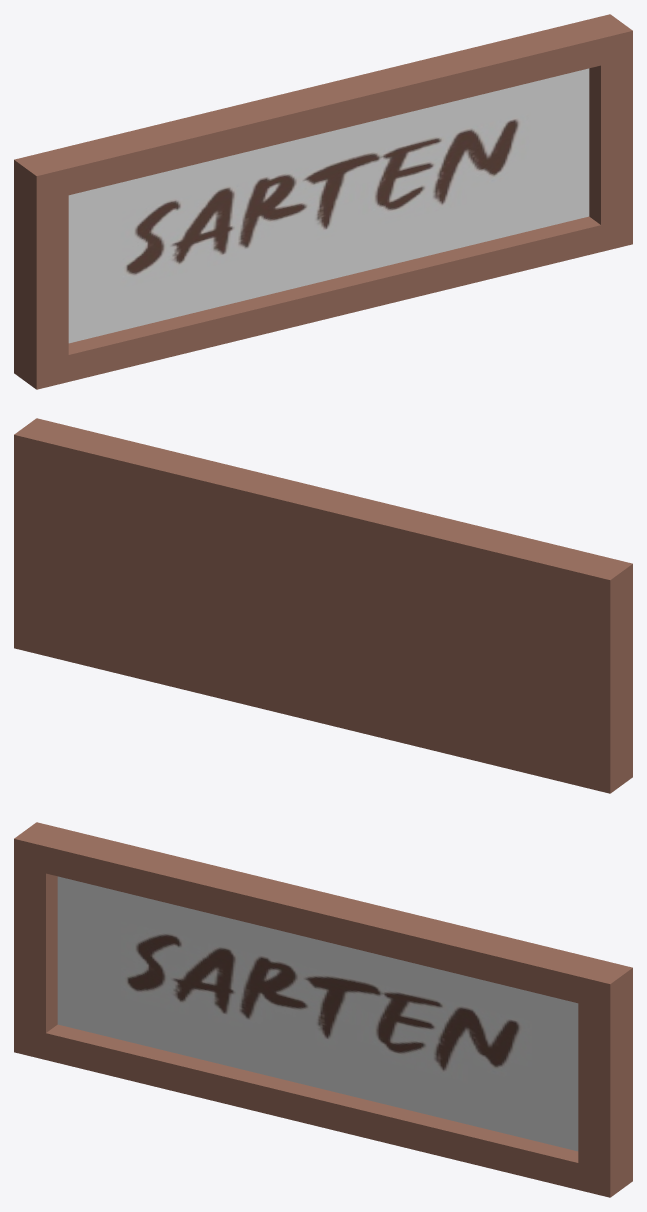
File: CartelSarten.fbx
The picture shows the model from 3 angles, top to bottom: view 1: azimuth 30°, elevation 25°; view 2: azimuth 150°, elevation 25°; view 3: azimuth 330°, elevation 25°; orthographic projection.
Visible parts, largest first — view 1: Cubo.001; view 2: Cubo.001; view 3: Cubo.001.
Part boxes in pixels (bbox=[...]): Cubo.001: bbox=[14, 14, 632, 389]; Cubo.001: bbox=[14, 418, 632, 793]; Cubo.001: bbox=[14, 822, 632, 1197].
Bounding box in the file's own units: 180 × 61.58 × 11.85.
